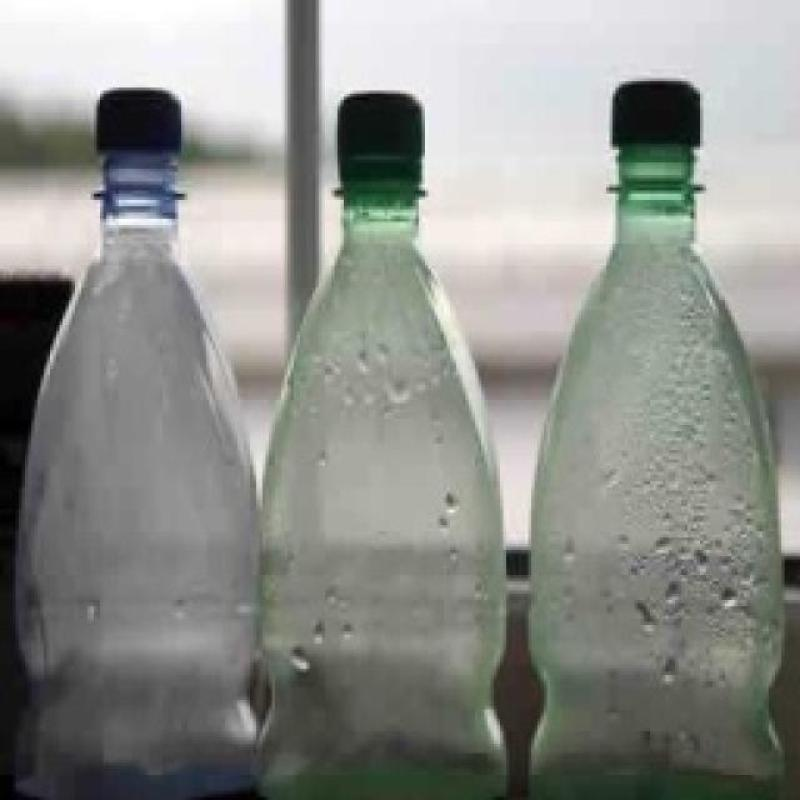botella: (2, 87, 261, 800), (528, 82, 784, 800), (252, 91, 507, 800)
